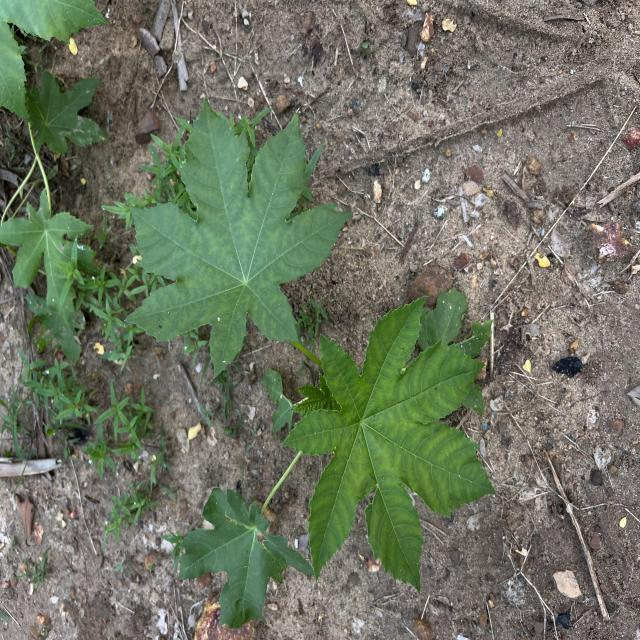Ricinus communis linn: (121, 92, 355, 386), (279, 290, 499, 598)
